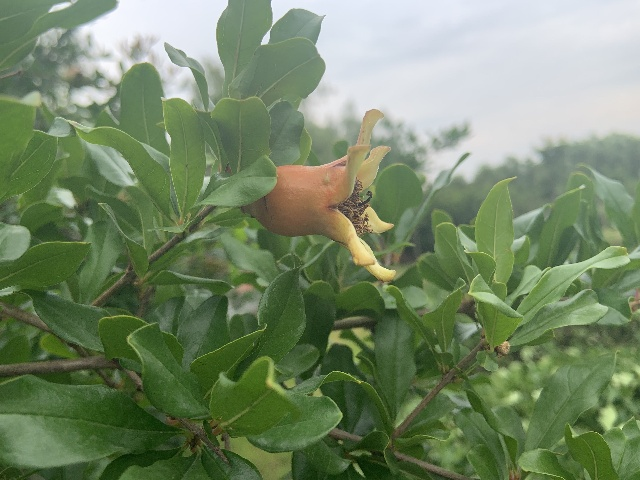early-fruit: (243, 108, 396, 282)
